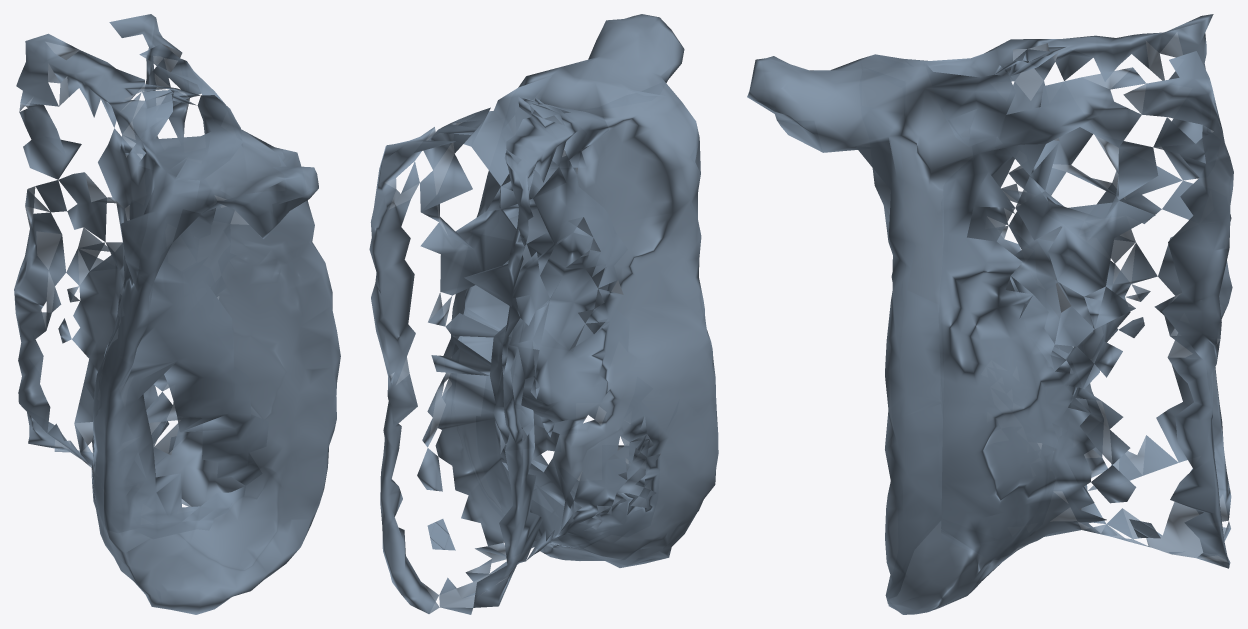
Rendered from toilet_0045_recon.obj.
3 renders of one model, left to right at view 1: azimuth 30°, elevation 25°; view 2: azimuth 150°, elevation 25°; view 3: azimuth 270°, elevation 25°, orthographic. The views are drawn at different scales.
Size of the model in its own units: 0.7855 by 1.59 by 1.23.
